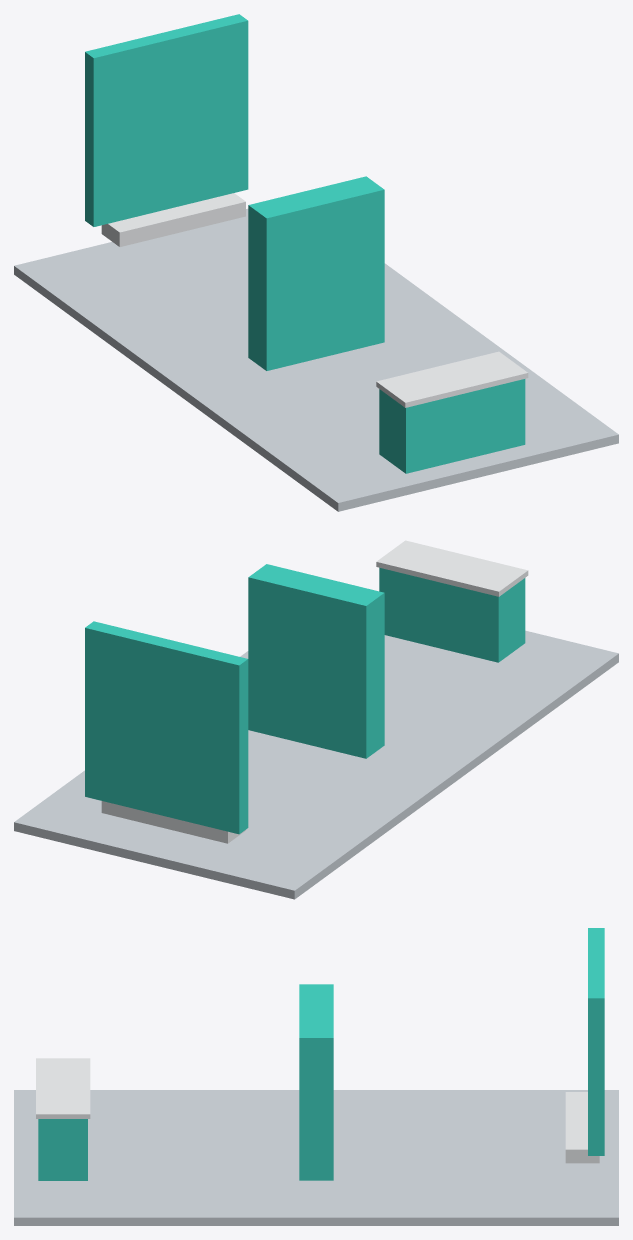
3 views of the same model, one above another, from view 1: azimuth 30°, elevation 25°; view 2: azimuth 150°, elevation 25°; view 3: azimuth 270°, elevation 25° (orthographic). The views are drawn at different scales.
Visible parts, largest first — view 1: Exhibition Booth Concept; view 2: Exhibition Booth Concept; view 3: Exhibition Booth Concept.
Boxes of the visible parts, x1,y1,x2,y2 form: Exhibition Booth Concept: (14, 14, 618, 511); Exhibition Booth Concept: (14, 540, 618, 899); Exhibition Booth Concept: (14, 928, 618, 1225).
Size of the model in its own units: 4 by 2.9 by 8.
